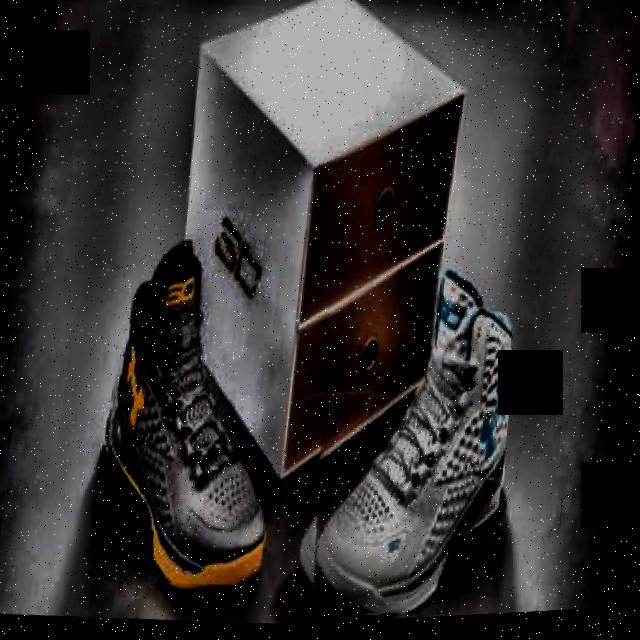shoe: (294, 261, 525, 628), (90, 232, 297, 596)
